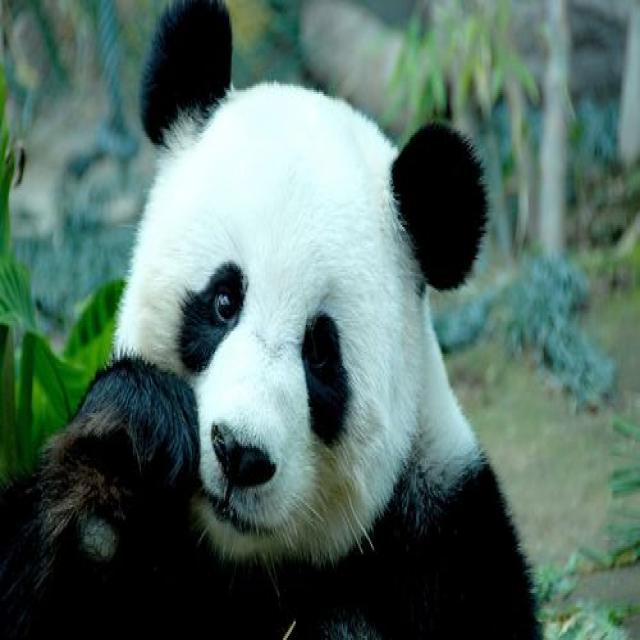panda: (88, 12, 523, 629)
